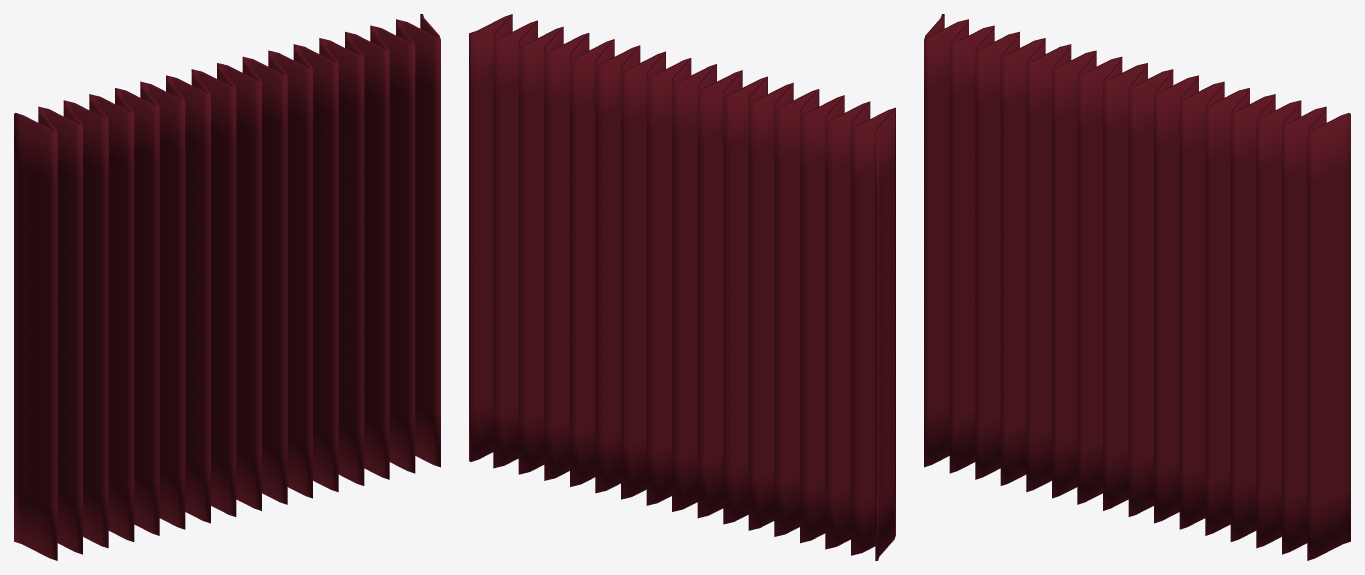
File: SM_CurtainPanel.glb
3 views of the same model, side by side, from view 1: azimuth 30°, elevation 25°; view 2: azimuth 150°, elevation 25°; view 3: azimuth 330°, elevation 25° (orthographic).
Visible parts, largest first — view 1: SM_CurtainPanel; view 2: SM_CurtainPanel; view 3: SM_CurtainPanel.
Part boxes in pixels (x1=…): SM_CurtainPanel: x1=14, y1=14, x2=440, y2=560; SM_CurtainPanel: x1=469, y1=14, x2=895, y2=560; SM_CurtainPanel: x1=924, y1=14, x2=1350, y2=560.
Size of the model in its own units: 1 by 1 by 0.136.
Materials: 1 (1 with a texture image).
